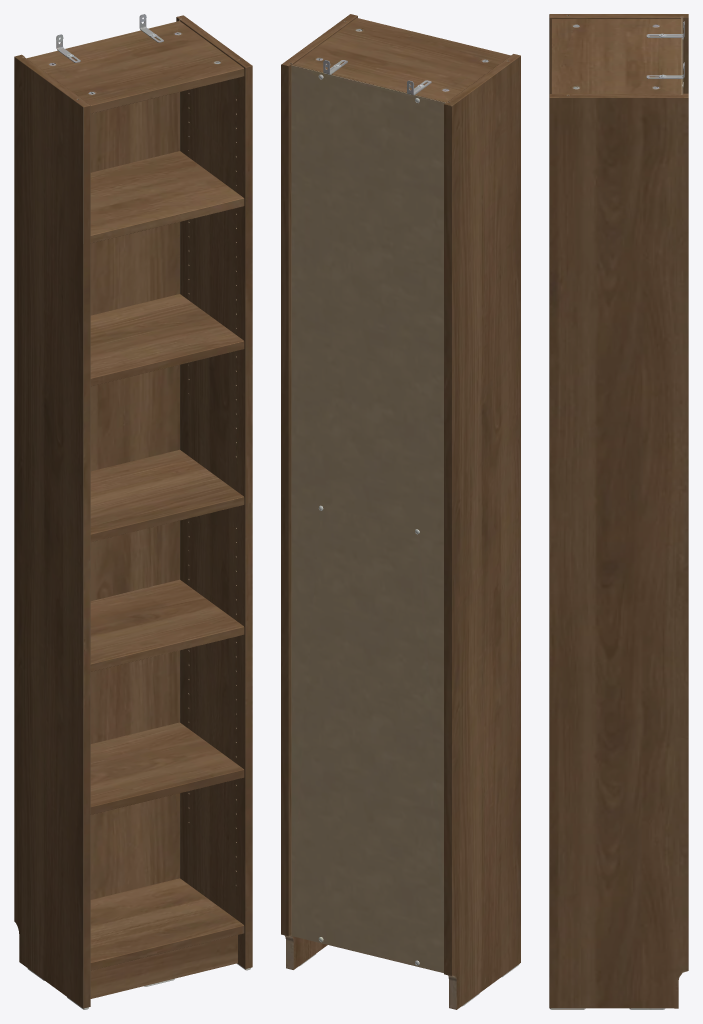
3 renders of one model, left to right at view 1: azimuth 30°, elevation 25°; view 2: azimuth 150°, elevation 25°; view 3: azimuth 270°, elevation 25°, orthographic.
Parts seen in each view (by area): view 1: model; view 2: model; view 3: model.
Part boxes in pixels (<box>): model: <box>14,14,252,1009</box>; model: <box>281,14,520,1009</box>; model: <box>549,14,688,1009</box>.
Bounding box in the file's own units: 0.398 × 2.05 × 0.28.
Materials: 1 (1 with a texture image).
